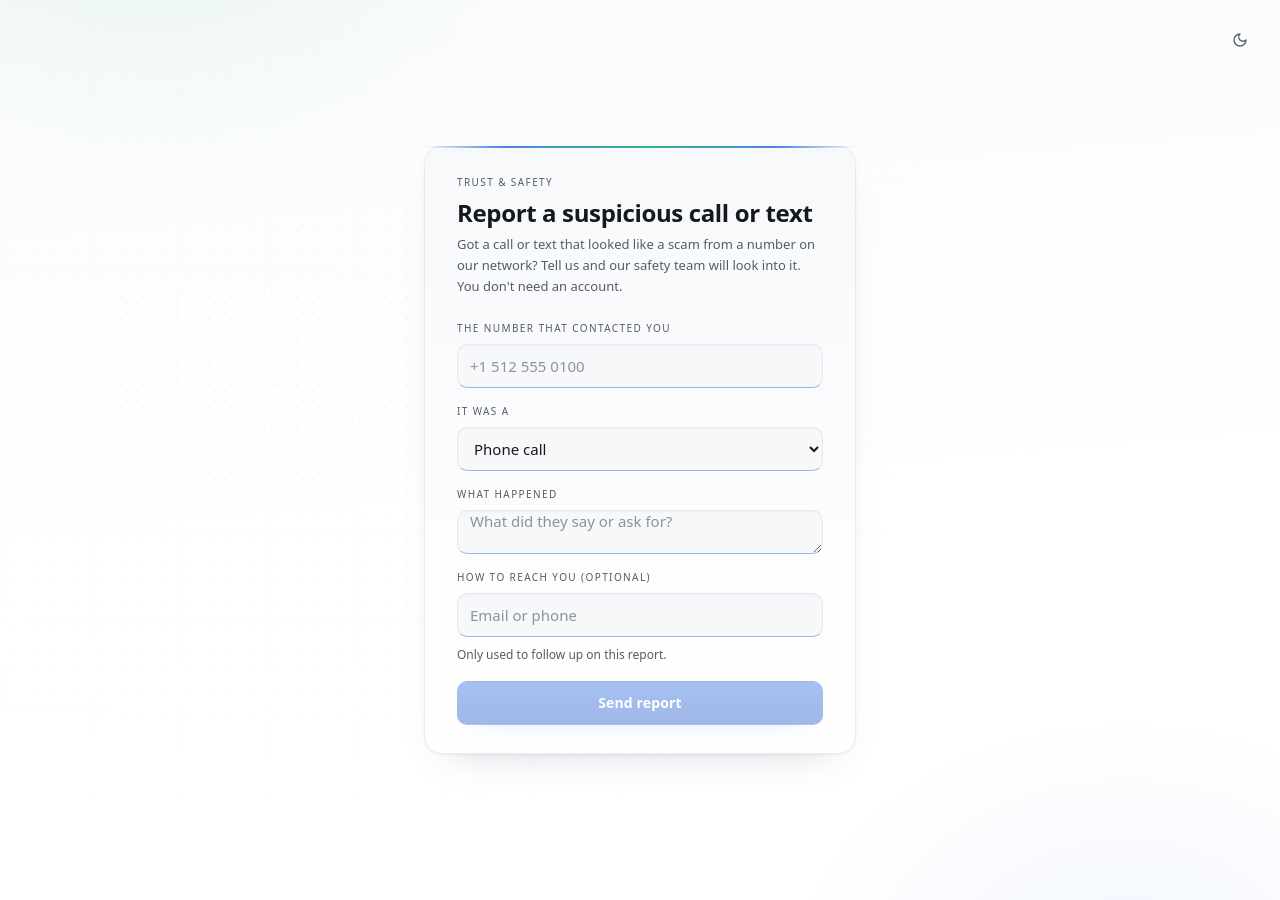
Test: ReportNumberPage › sends a report without an account
This screenshot has width=1280, height=900.
Type "+15125550100" into the field labelled "number that contacted you" at (640, 366), box [457, 344, 823, 388]
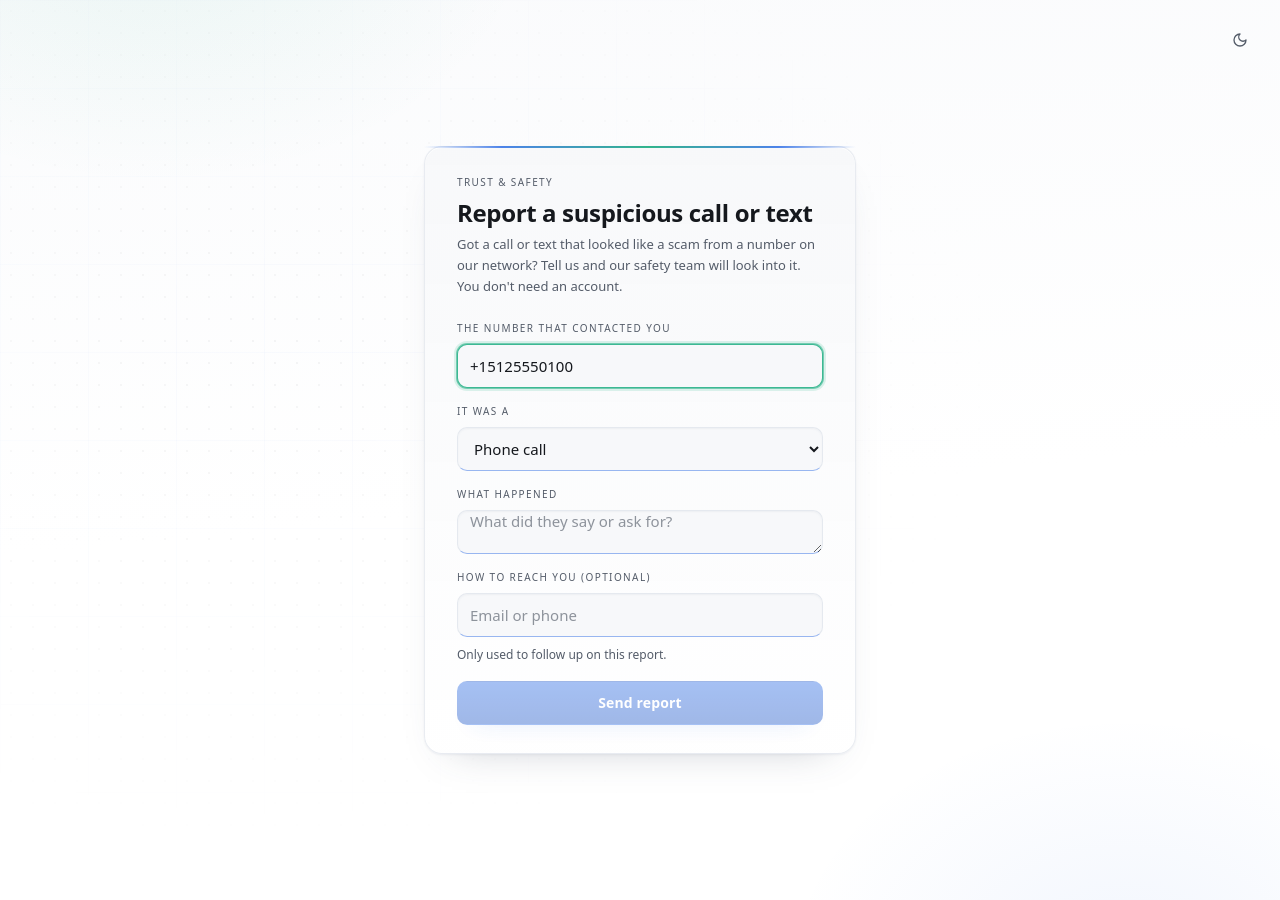
Type "They said I owe the IRS and must buy gift cards." into the text box labelled "What happened" at (640, 532), box [457, 510, 823, 554]
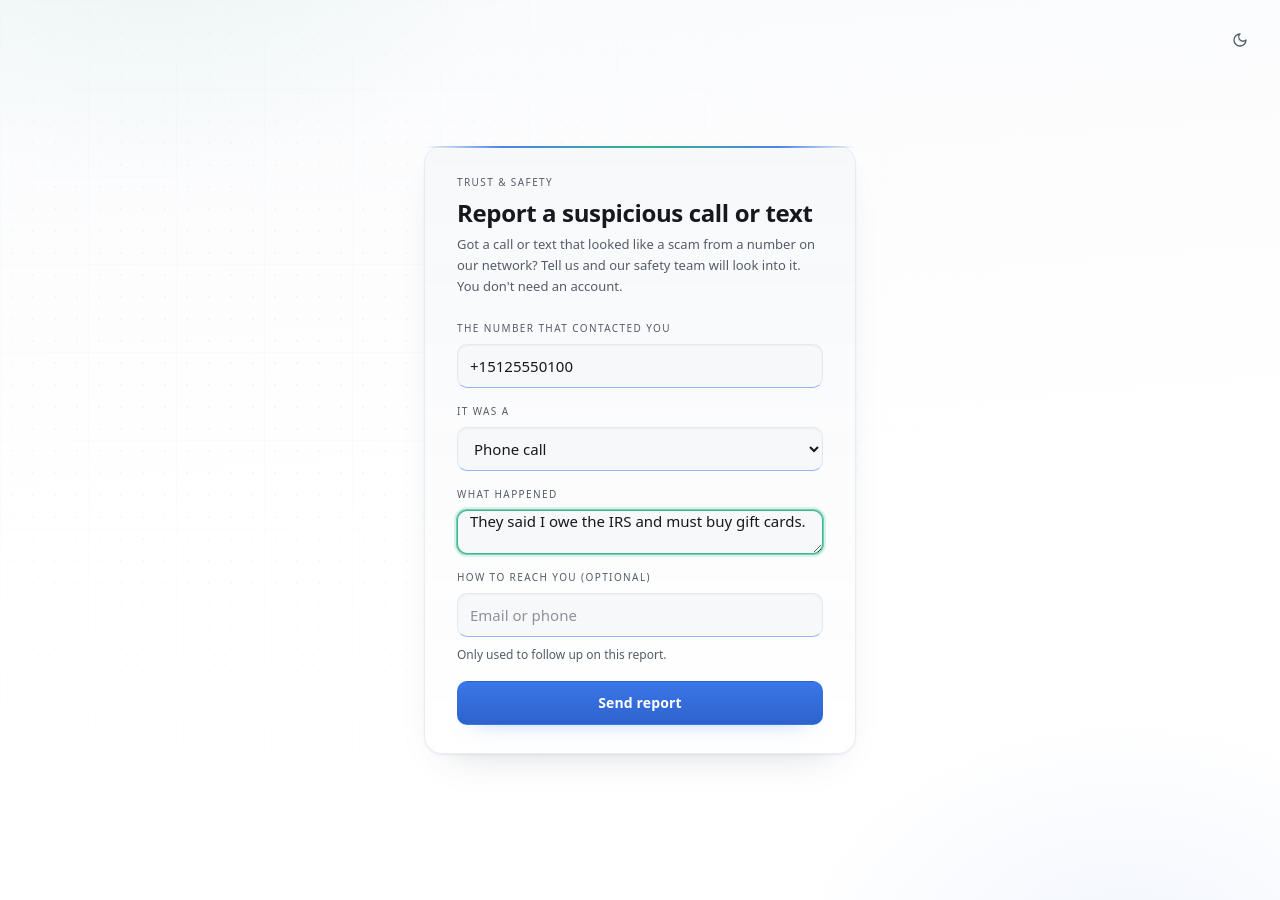
Click the button "Send report" at (640, 702), box [457, 680, 823, 724]
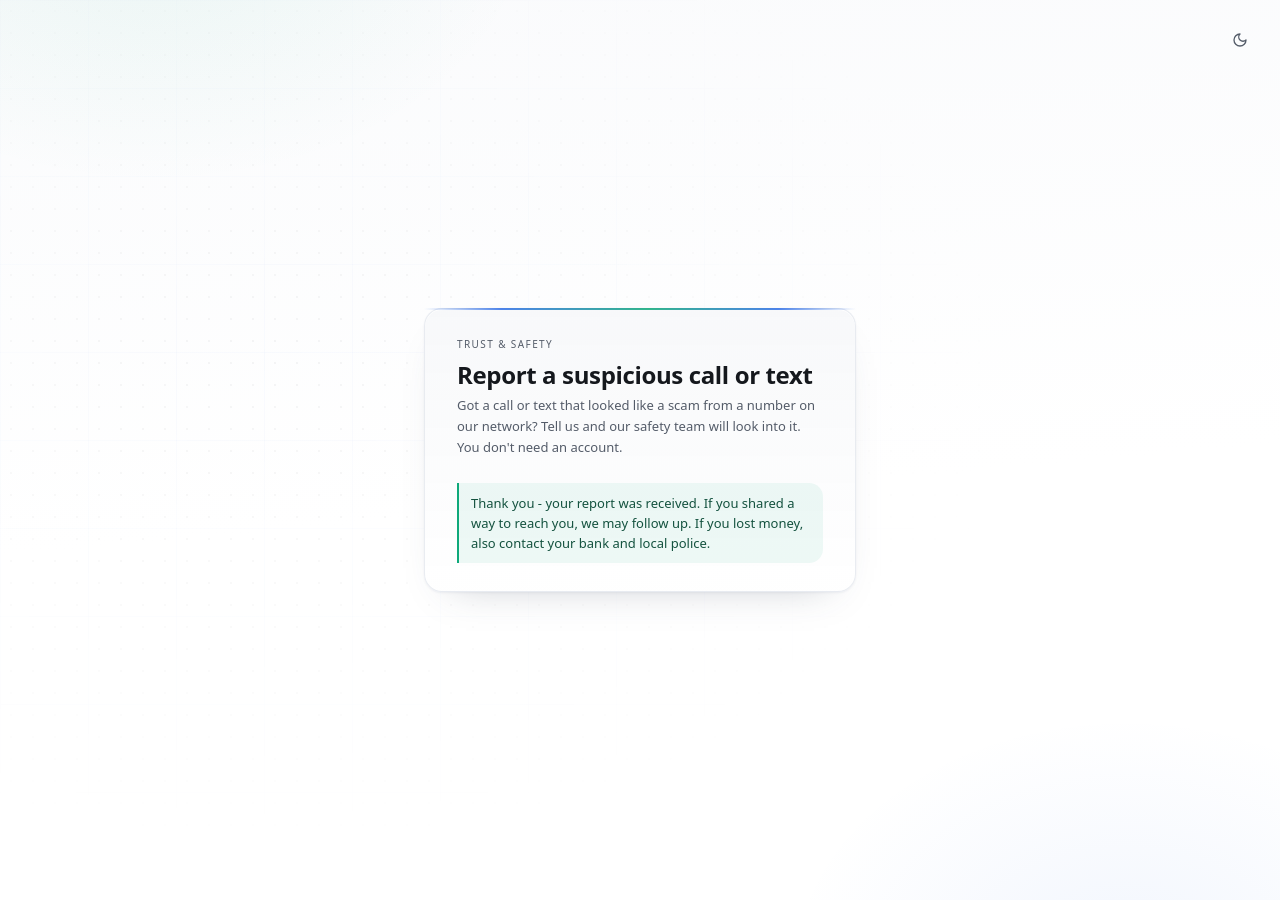
Result: the text "your report was received" is shown at [471, 494, 803, 552]
